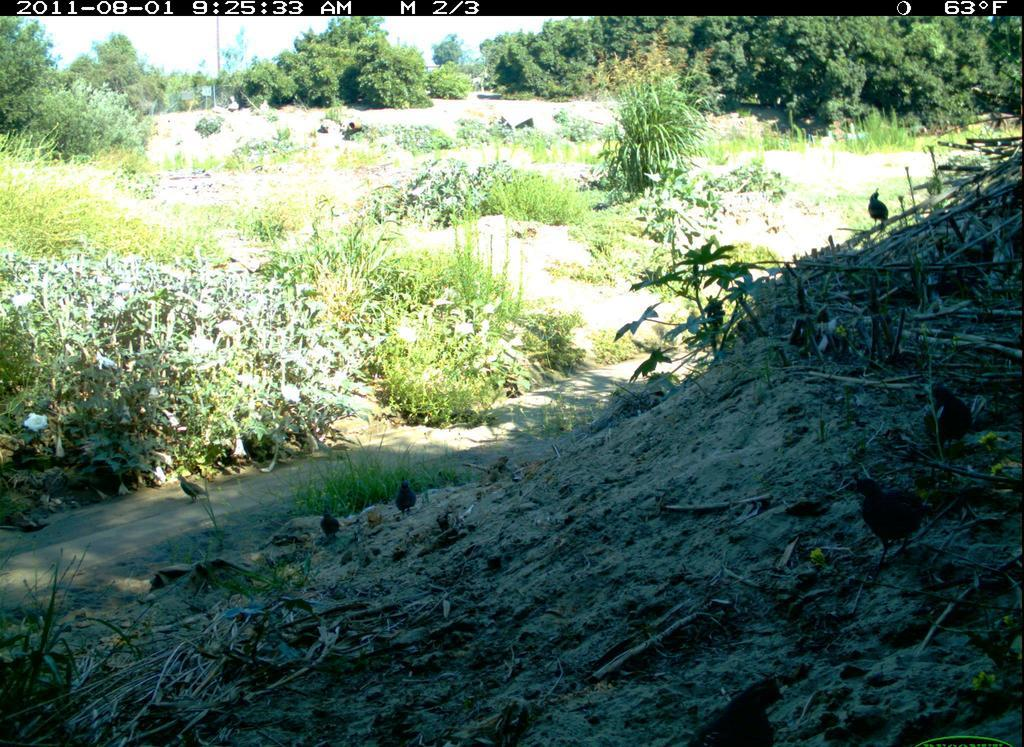bird: (843, 465, 936, 565), (685, 675, 792, 747), (919, 376, 982, 469), (171, 467, 215, 510), (316, 497, 348, 547), (392, 472, 422, 524), (867, 190, 891, 235)
